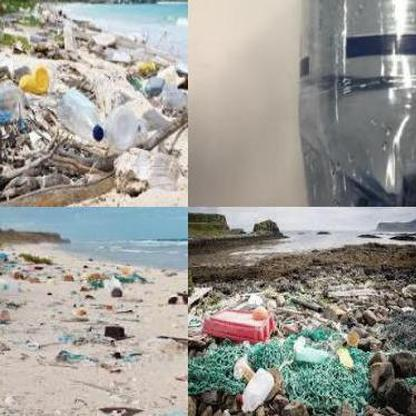plastic bottle: (302, 2, 416, 204), (60, 88, 104, 141), (241, 369, 275, 412)
